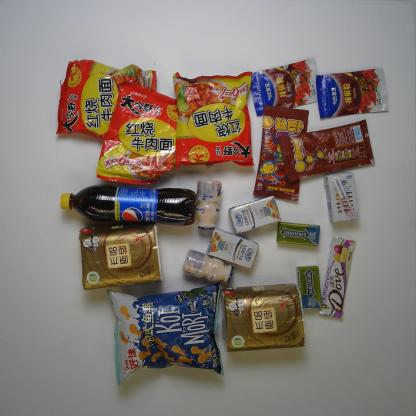Candy: (274, 118, 376, 184), (252, 104, 309, 202)
Chocolate: (317, 237, 359, 318)
Drink: (59, 185, 196, 228)
Gum: (275, 220, 322, 250), (296, 266, 323, 312)
Instant Noodles: (95, 82, 190, 185), (56, 57, 157, 145), (170, 70, 256, 169)
Milk: (205, 228, 259, 270), (228, 196, 280, 233), (181, 249, 235, 284), (324, 172, 359, 225), (193, 180, 225, 232)
Puffed Food: (105, 280, 225, 386)
Seasoner: (247, 56, 325, 117), (316, 67, 391, 118)
Tissue: (216, 282, 307, 352), (78, 222, 165, 292)
